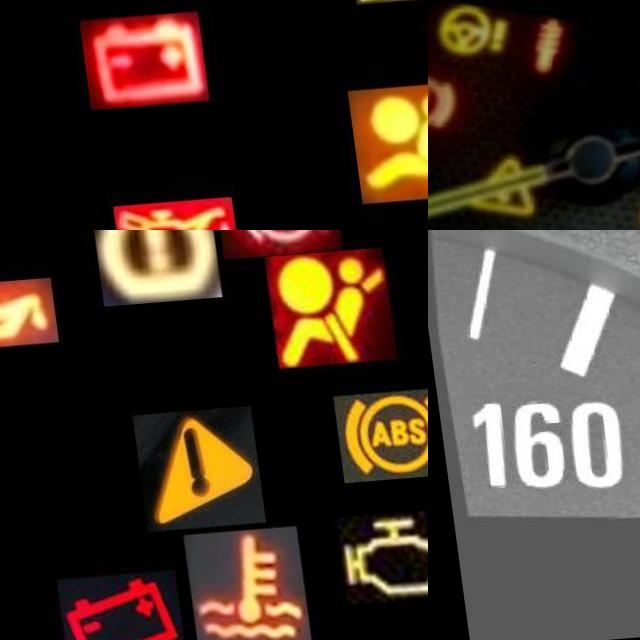Central Warning lamp: (125, 411, 255, 536)
Engine cooling system: (172, 532, 297, 640)
